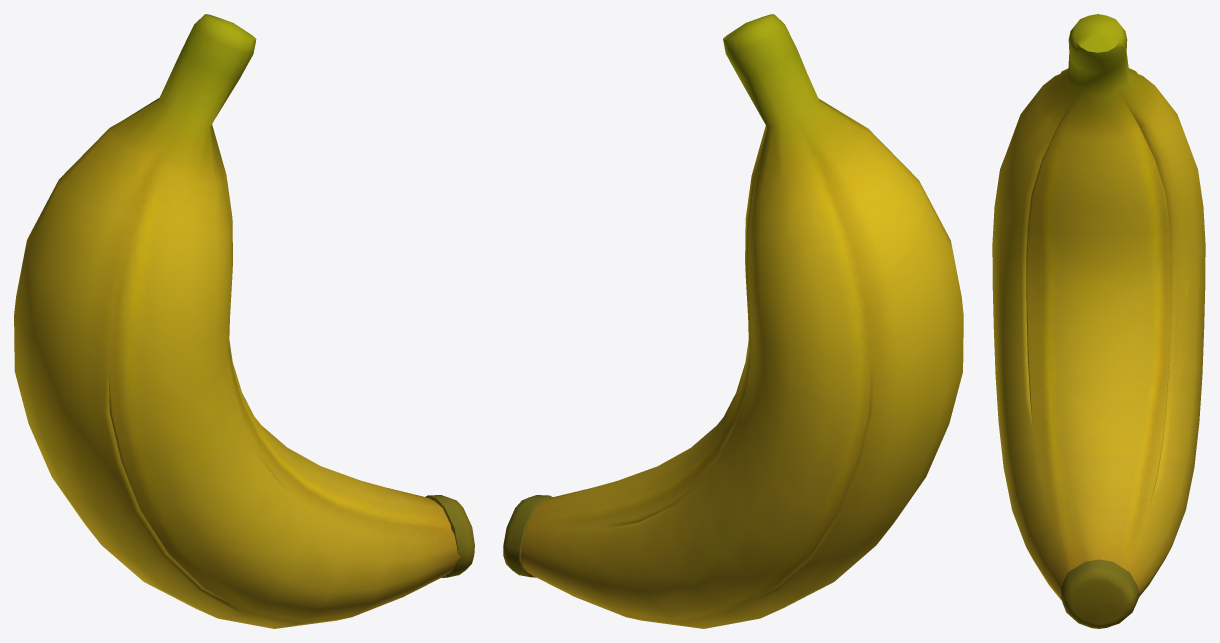
File: 0-banana.fbx
The picture shows the model from 3 angles, left to right: view 1: azimuth 30°, elevation 25°; view 2: azimuth 150°, elevation 25°; view 3: azimuth 270°, elevation 25°; orthographic projection. The views are drawn at different scales.
Visible parts, largest first — view 1: 0-banana; view 2: 0-banana; view 3: 0-banana.
Part boxes in pixels (x1,y1,x2,y2): 0-banana: (14,14,474,628); 0-banana: (503,14,963,628); 0-banana: (992,14,1205,628).
Size of the model in its own units: 67.24 by 93.3 by 34.29.
